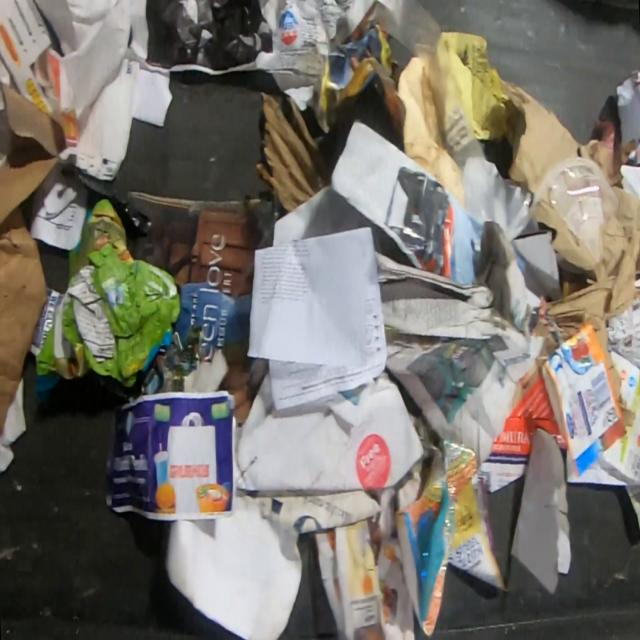cardboard: (499, 76, 640, 428), (507, 425, 573, 599), (0, 204, 47, 438), (254, 90, 332, 212), (0, 81, 65, 225)
rigid_plastic: (532, 156, 619, 263)
soft_plastic: (28, 196, 182, 403), (392, 438, 509, 637), (376, 0, 442, 67)
